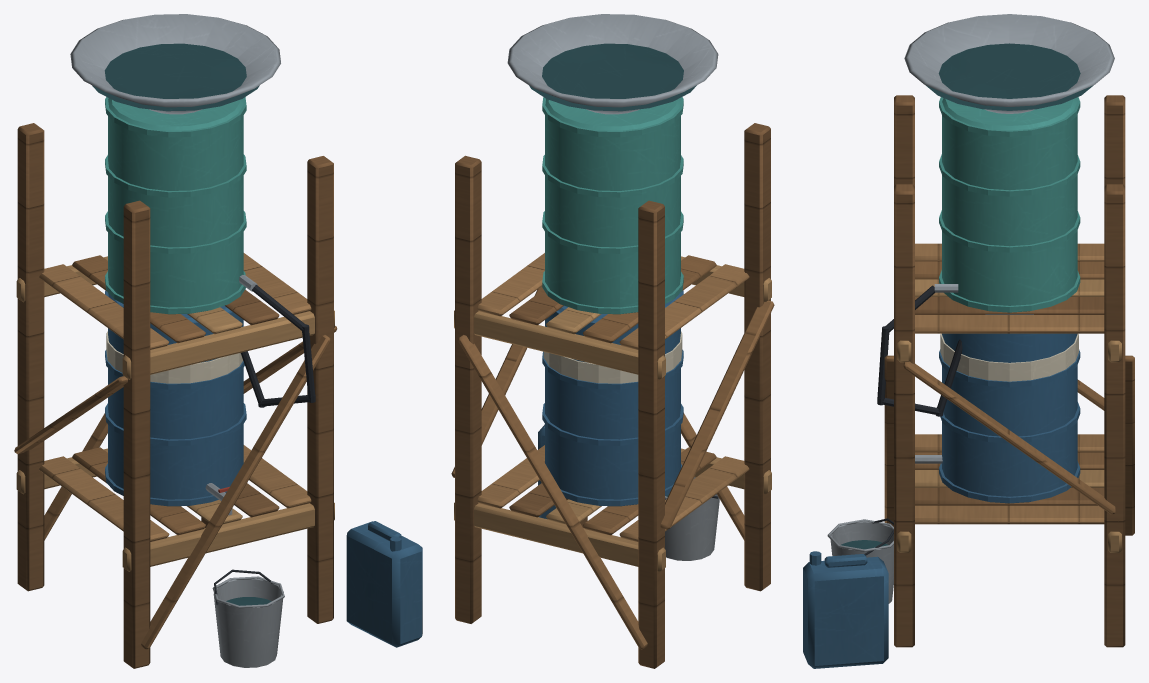
File: water_filter_barrel.glb
The picture shows the model from 3 angles, left to right: view 1: azimuth 30°, elevation 25°; view 2: azimuth 150°, elevation 25°; view 3: azimuth 270°, elevation 25°; orthographic projection.
Visible parts, largest first — view 1: water_filter_barrel; view 2: water_filter_barrel; view 3: water_filter_barrel.
Part boxes in pixels (left/top/right/bottom): water_filter_barrel: left=14, top=14, right=422, bottom=668; water_filter_barrel: left=451, top=14, right=774, bottom=668; water_filter_barrel: left=803, top=14, right=1134, bottom=668.
Size of the model in its own units: 1.26 by 2.56 by 1.42.
18 materials, 18 textured.
